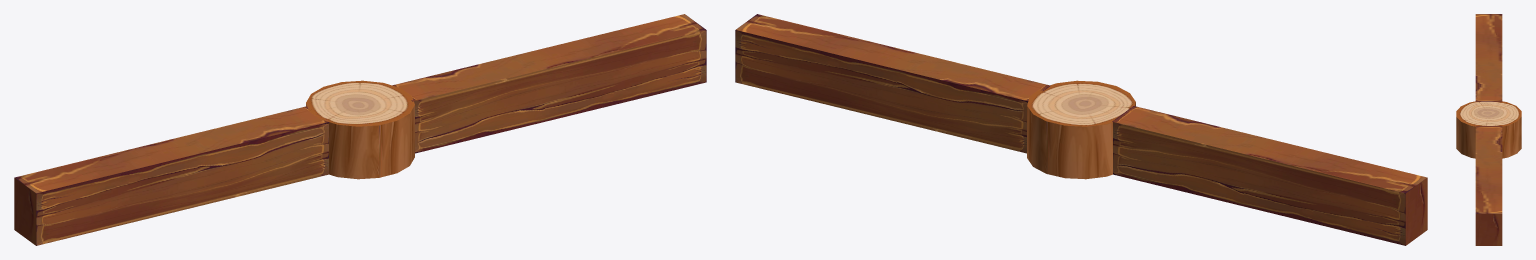
The model's file is two_blade_wood_03.fbx.
3 views of the same model, side by side, from view 1: azimuth 30°, elevation 25°; view 2: azimuth 150°, elevation 25°; view 3: azimuth 270°, elevation 25° (orthographic). The views are drawn at different scales.
Parts seen in each view (by area): view 1: Blade_1, Blade_2, wood_center_4; view 2: Blade_1, Blade_2, wood_center_4; view 3: Blade_2, wood_center_4, Blade_1.
Part boxes in pixels (<box>): Blade_1: <box>14,106,328,245</box>; Blade_2: <box>392,14,706,153</box>; wood_center_4: <box>306,80,414,179</box>; Blade_1: <box>1112,106,1427,245</box>; Blade_2: <box>735,14,1050,153</box>; wood_center_4: <box>1027,80,1135,179</box>; Blade_2: <box>1475,126,1502,245</box>; wood_center_4: <box>1456,101,1521,158</box>; Blade_1: <box>1475,14,1502,101</box>.
Size of the model in its own units: 534 by 40 by 74.15.
